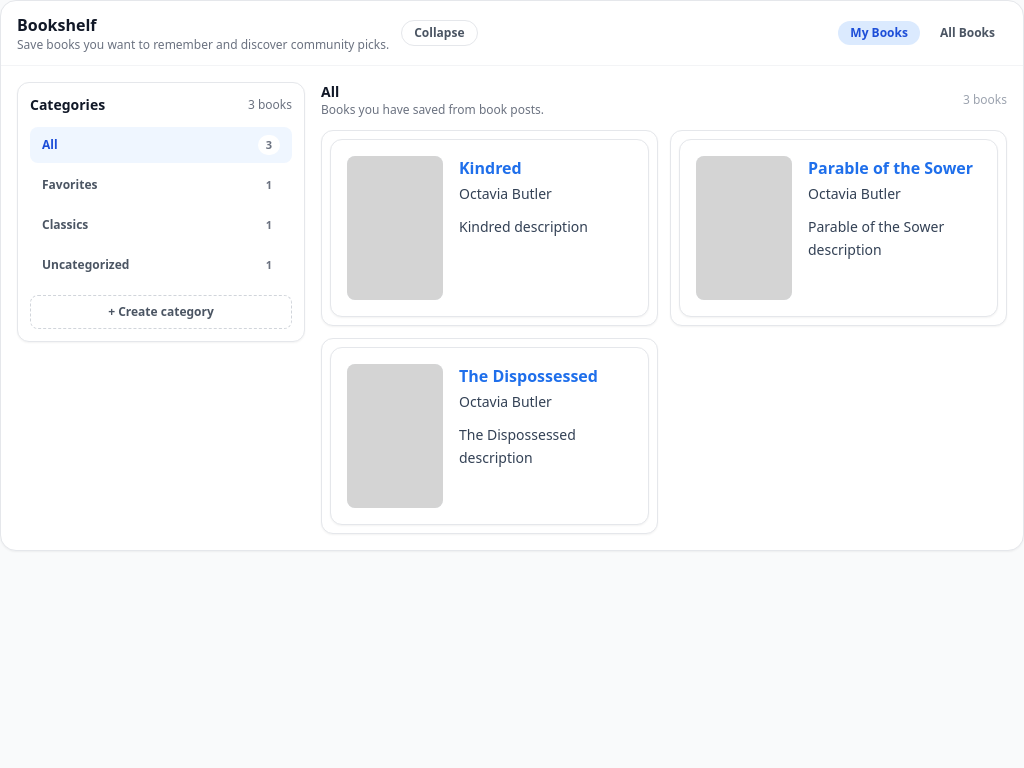
Test: Bookshelf › switches between My Books and All Books tabs
expect the element with test id "bookshelf-my-item-post-1" is shown: met, box [670,130,1007,326]
Click the tab with test id "bookshelf-tab-all". click: click(968, 33)
box: [928,21,1007,45]
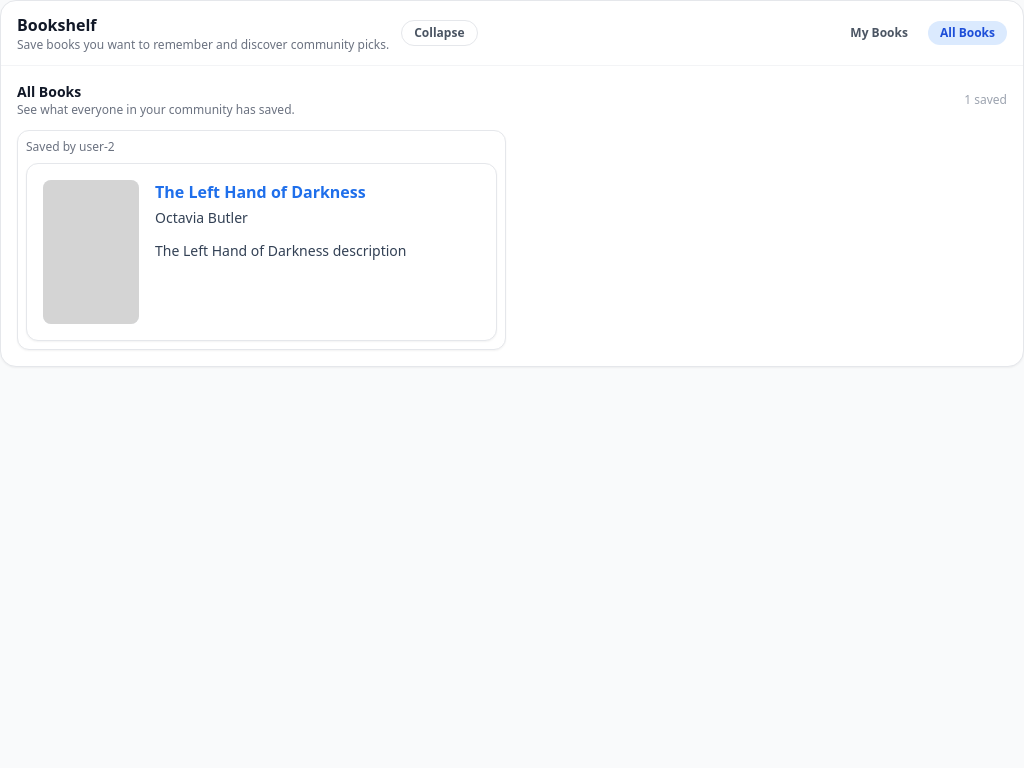
expect the element with test id "bookshelf-all-item-post-3" is shown: met, box [17,130,506,350]
